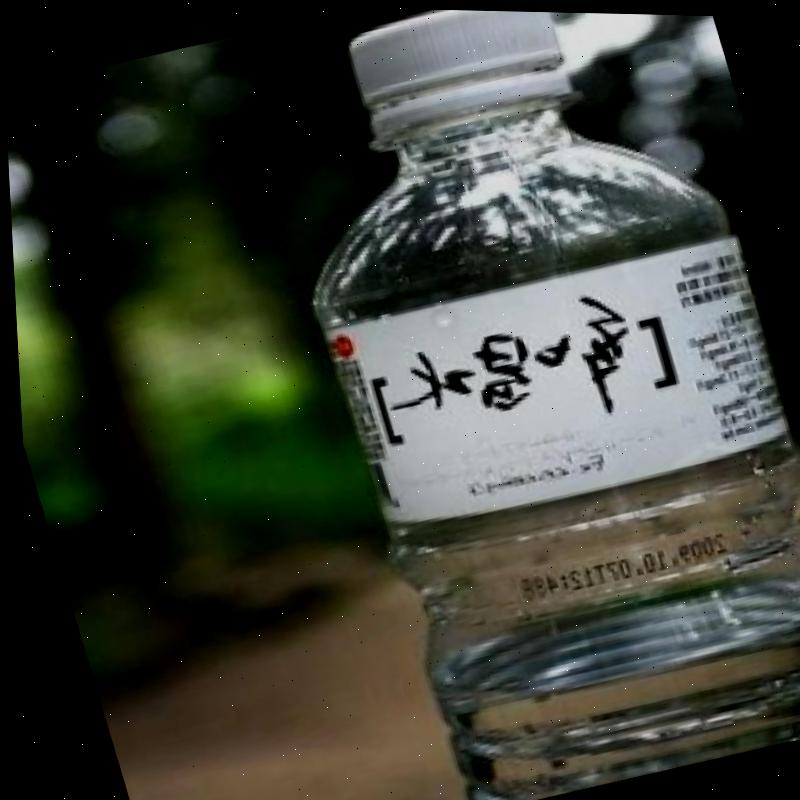botella: (224, 4, 800, 800)
